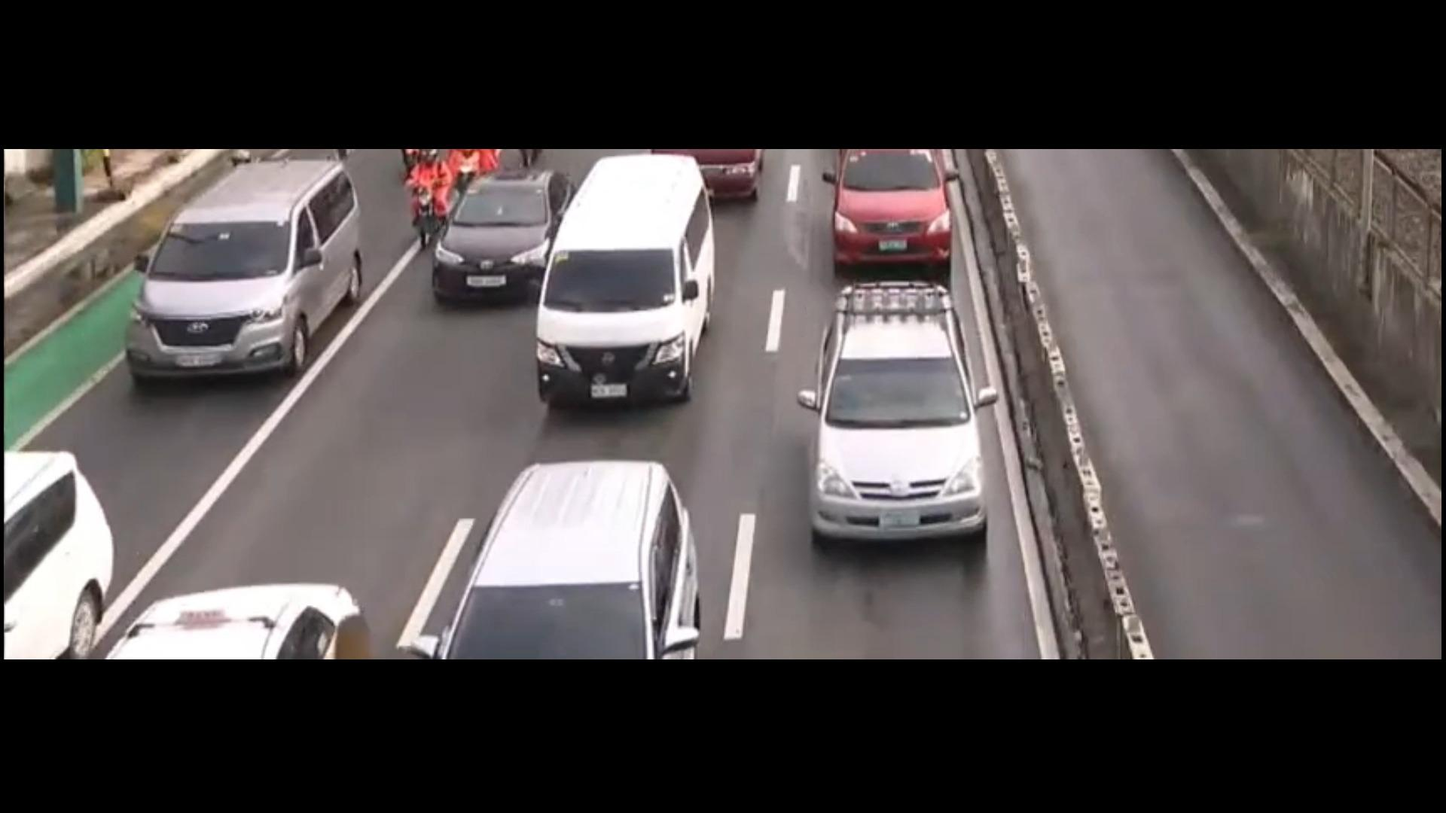Motorcycle: (409, 145, 456, 247), (456, 149, 495, 188)
SUV: (781, 264, 1006, 595), (427, 443, 738, 664)
Sedan: (414, 147, 584, 328)
Van: (106, 155, 371, 401), (531, 157, 727, 429)
